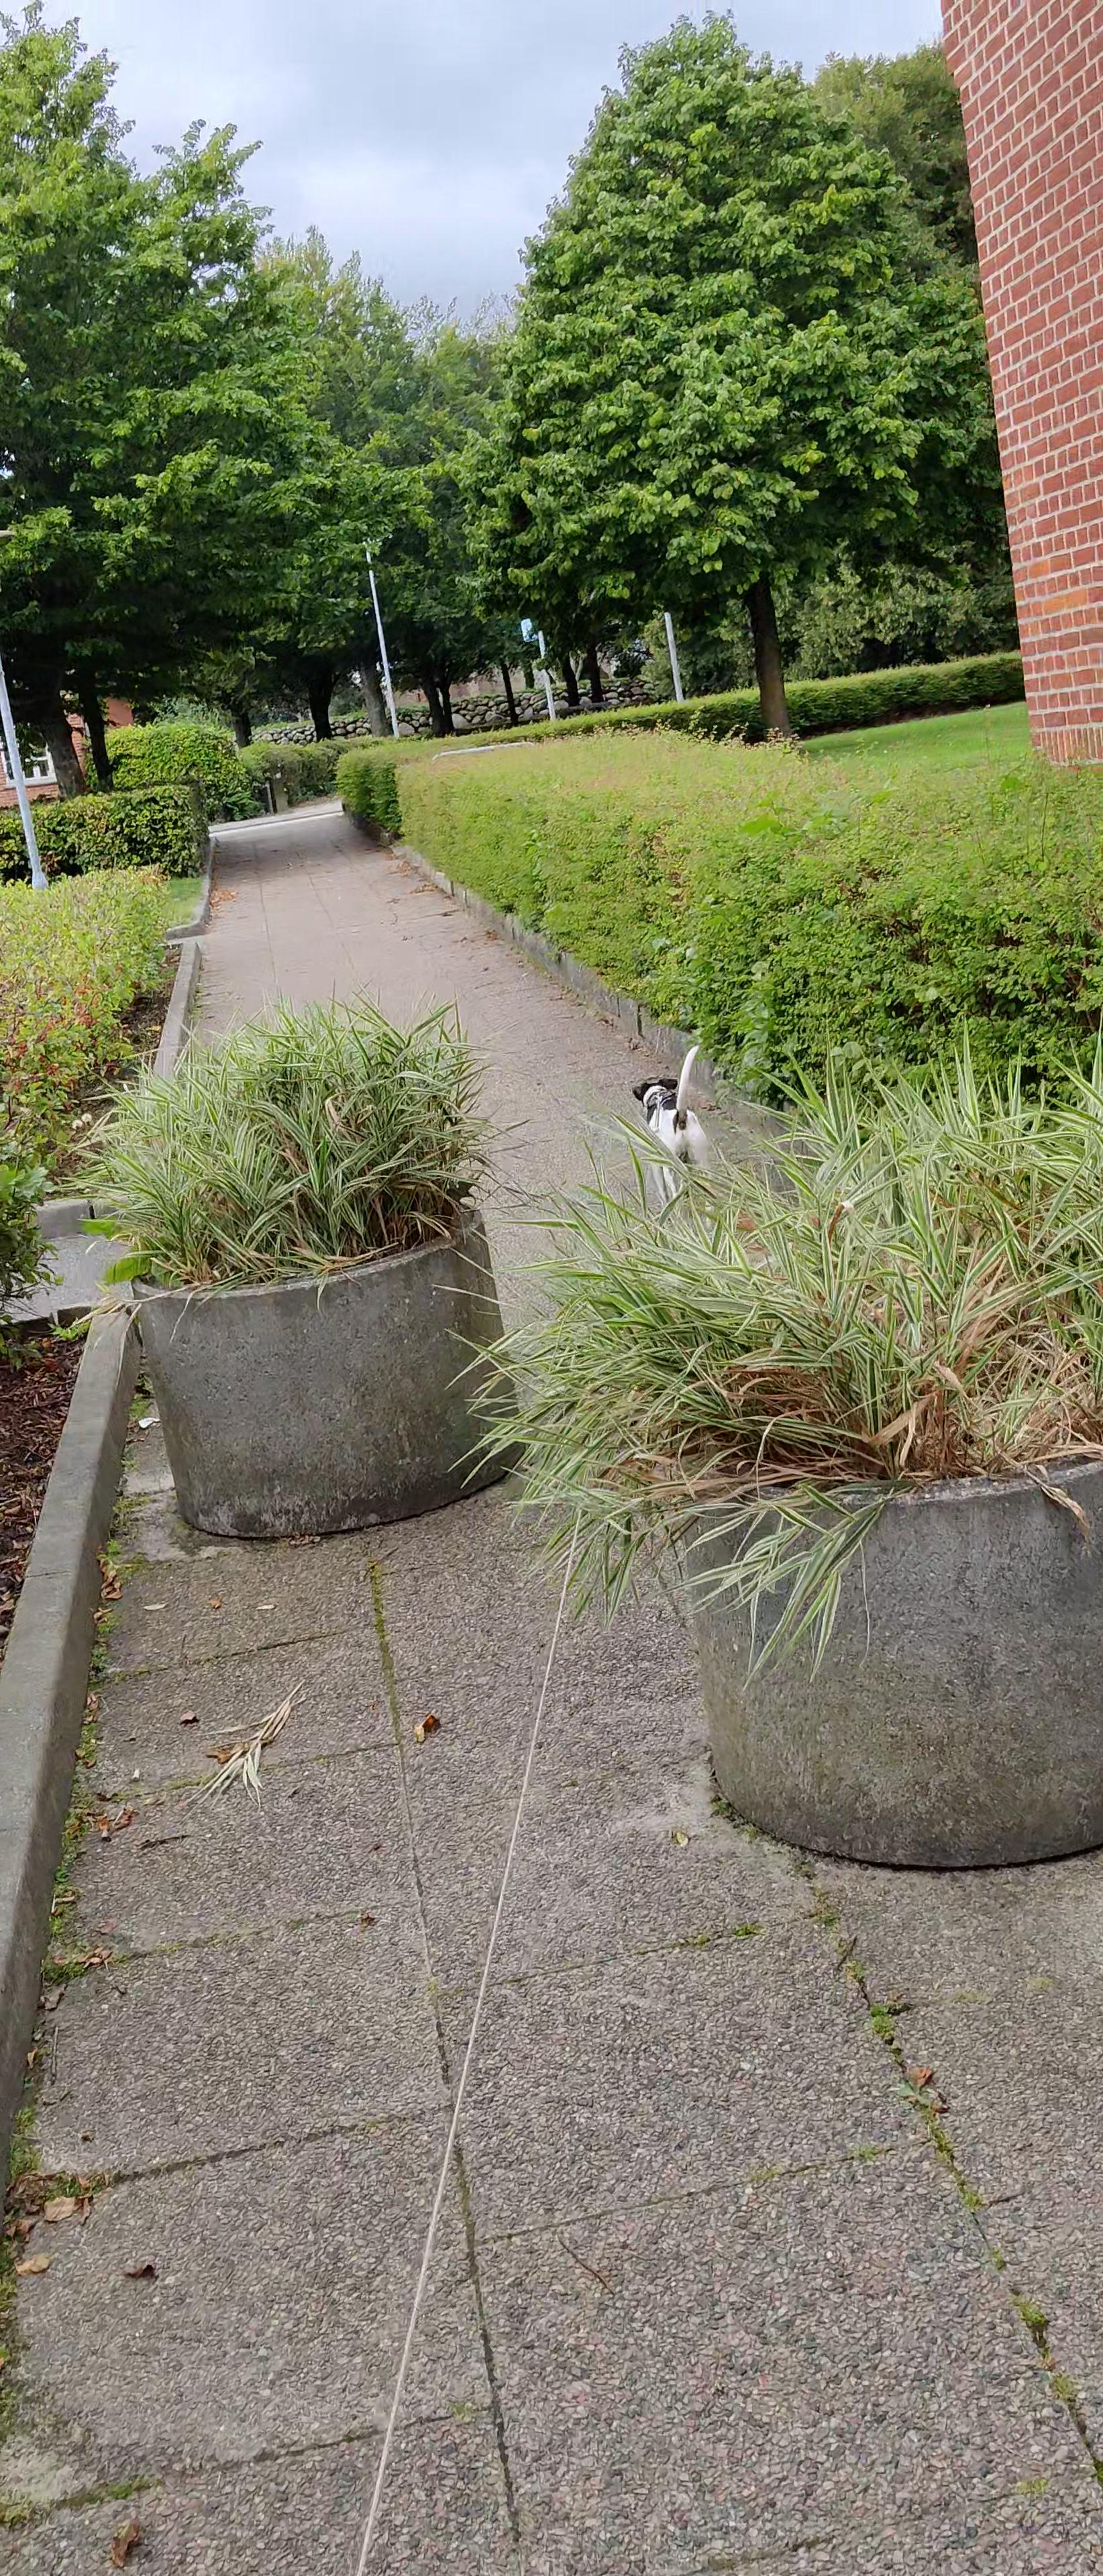Dog: (630, 1043, 720, 1229)
